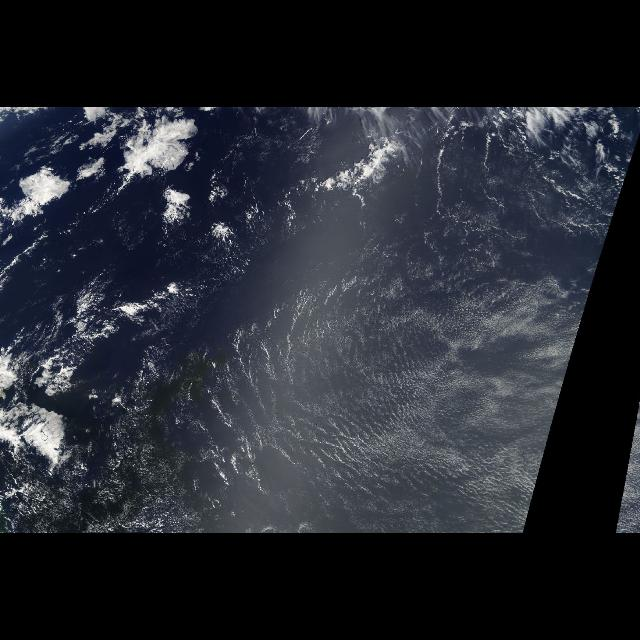Fish: (37, 120, 505, 390)
Flower: (0, 108, 264, 238), (0, 328, 116, 512)
Gravel: (214, 280, 578, 528)
Sugar: (198, 226, 612, 534), (614, 397, 640, 533)
